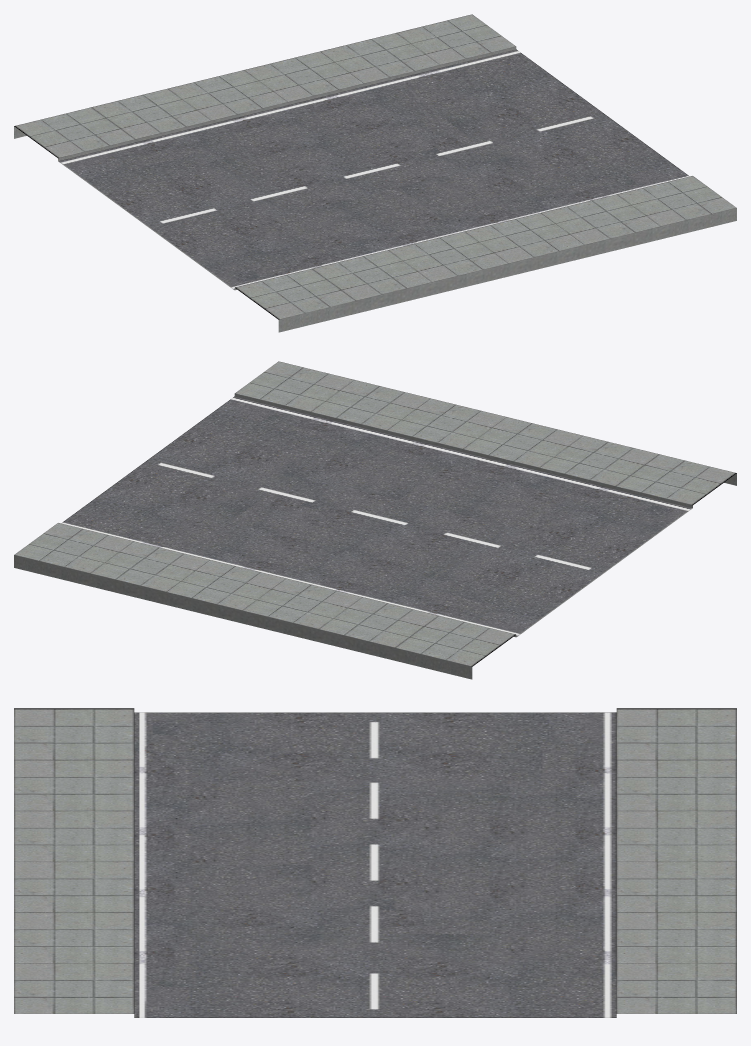
Rendered from route.fbx.
3 views of the same model, one above another, from view 1: azimuth 30°, elevation 25°; view 2: azimuth 150°, elevation 25°; view 3: azimuth 270°, elevation 25° (orthographic). The views are drawn at different scales.
Visible parts, largest first — view 1: Plane; view 2: Plane; view 3: Plane.
Part boxes in pixels (x1,y1,x2,y2): Plane: (14, 14, 736, 332); Plane: (14, 361, 736, 679); Plane: (14, 708, 736, 1017).
Bounding box in the file's own units: 1200 × 32.09 × 1200.
